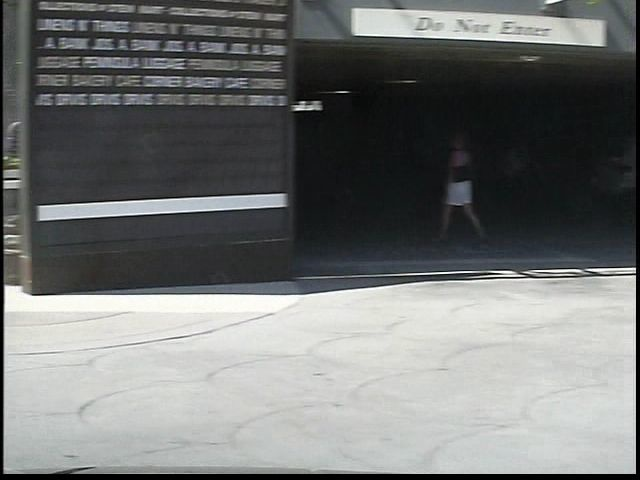person: (414, 130, 473, 250)
